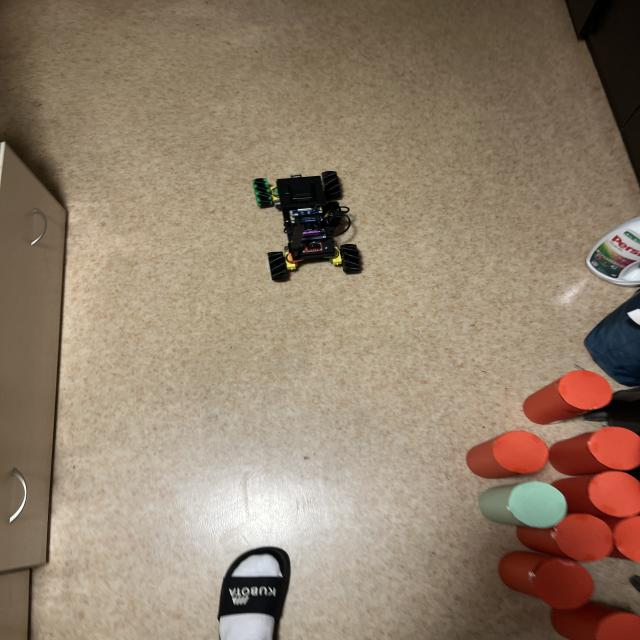robot: (252, 171, 362, 282)
